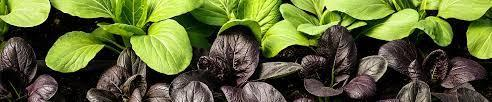Healthy-Pechay: (130, 18, 193, 76), (45, 30, 112, 74), (261, 18, 315, 58), (356, 9, 421, 42), (0, 0, 53, 27), (48, 0, 111, 20), (145, 0, 201, 22), (433, 0, 492, 20), (466, 16, 492, 60)
